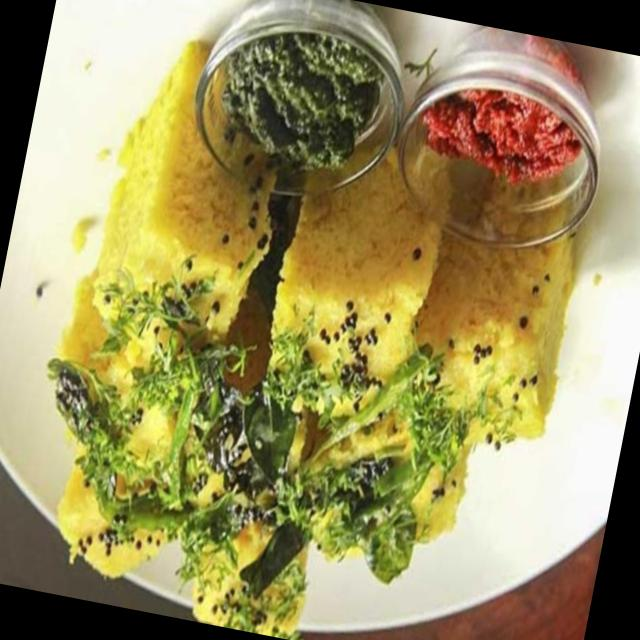dhokla: (10, 47, 602, 640)
